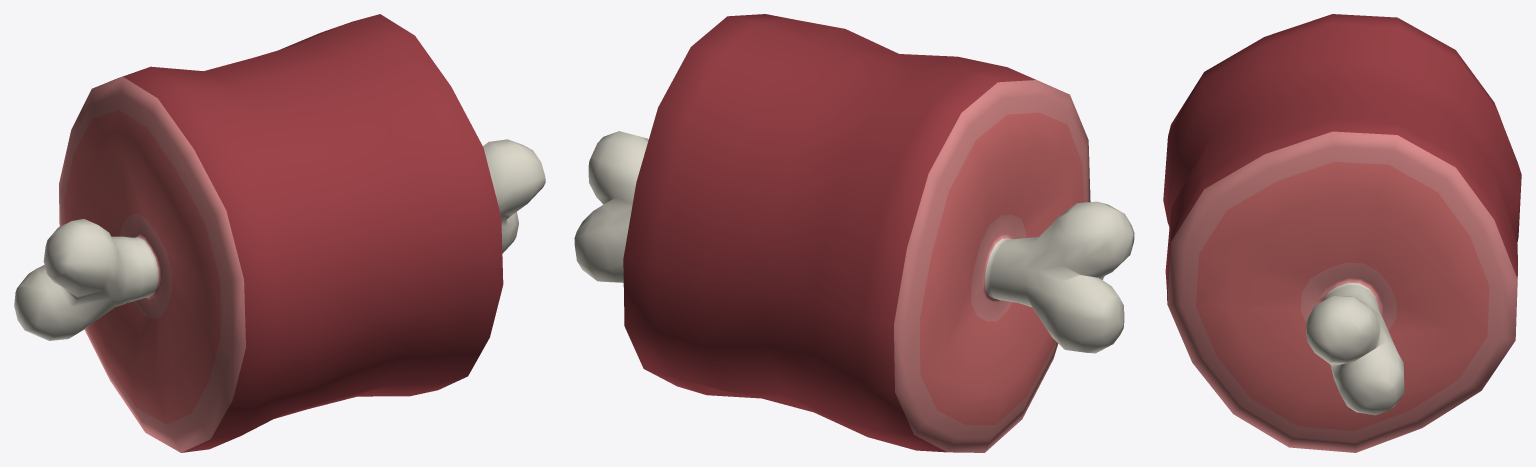
File: Meat_Ing.fbx
3 views of the same model, side by side, from view 1: azimuth 30°, elevation 25°; view 2: azimuth 150°, elevation 25°; view 3: azimuth 270°, elevation 25° (orthographic). The views are drawn at different scales.
Parts seen in each view (by area): view 1: Meat4; view 2: Meat4; view 3: Meat4.
Boxes of the visible parts, x1,y1,x2,y2 form: Meat4: (14, 14, 545, 452); Meat4: (574, 14, 1134, 452); Meat4: (1163, 14, 1521, 452).
Size of the model in its own units: 96.64 by 63.6 by 62.87.
